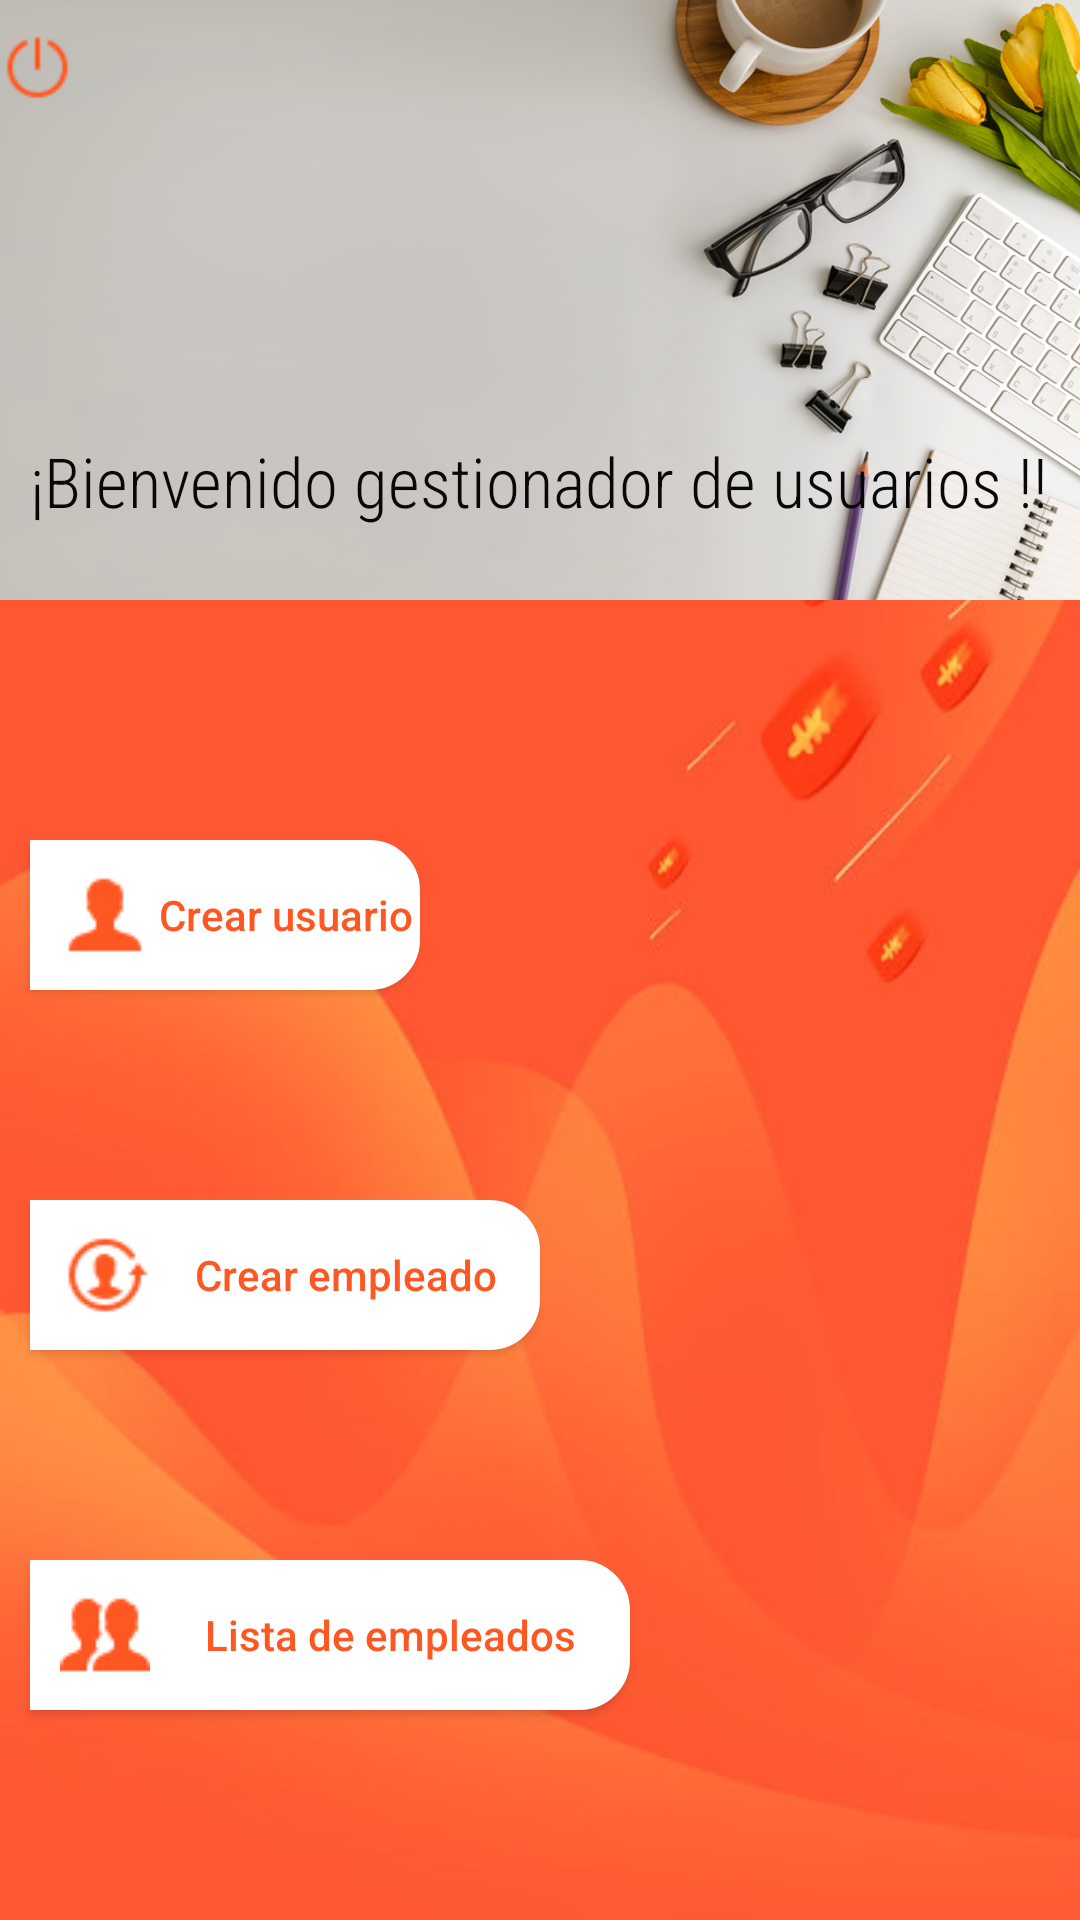

Named icons in this screenshot (1080 x 1920) and their bounding boxes, (x1, y1, x2, y2):
iconsesion: (7, 37, 68, 98)
